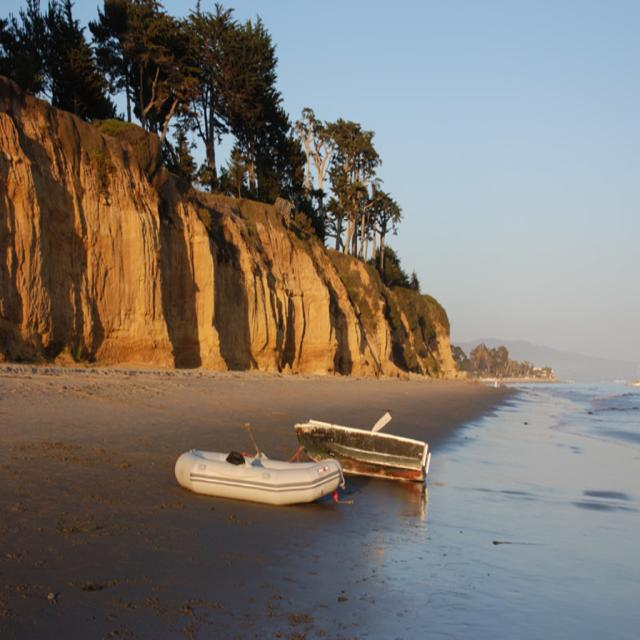Boat: (176, 428, 355, 514), (294, 411, 431, 486)
